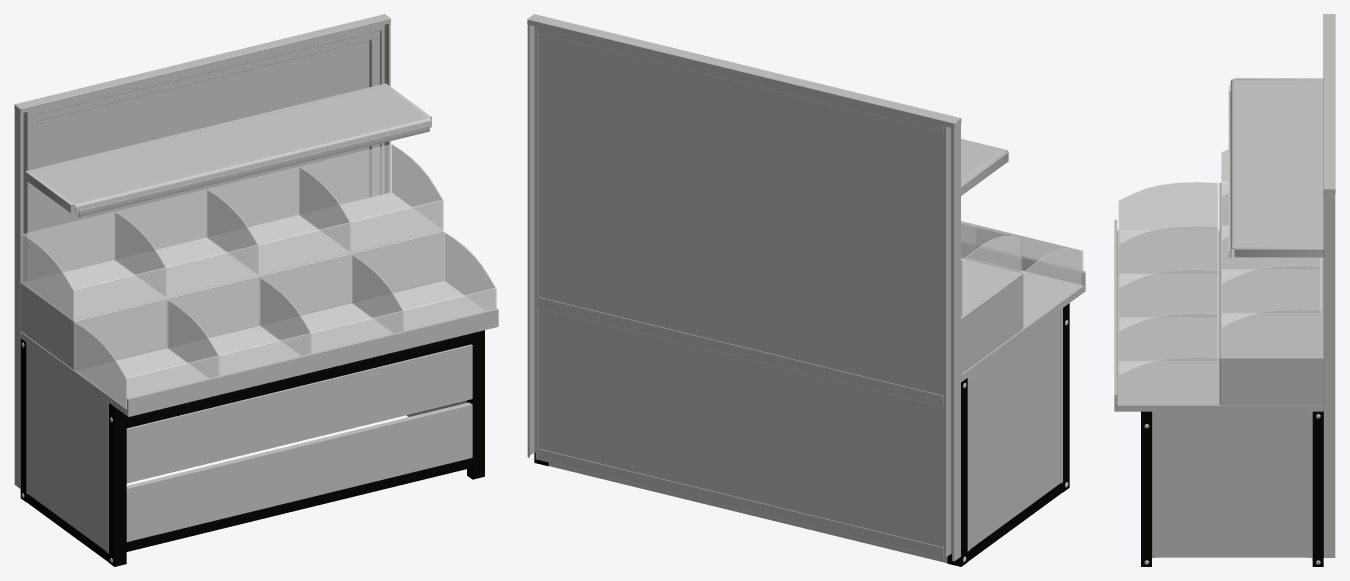
Rendered from SM_配餐区_米架_001.fbx.
3 views of the same model, side by side, from view 1: azimuth 30°, elevation 25°; view 2: azimuth 150°, elevation 25°; view 3: azimuth 270°, elevation 25° (orthographic). The views are drawn at different scales.
Visible parts, largest first — view 1: SM_配餐区_米架_001; view 2: SM_配餐区_米架_001; view 3: SM_配餐区_米架_001.
Part boxes in pixels (x1=…): SM_配餐区_米架_001: x1=14, y1=14, x2=498, y2=566; SM_配餐区_米架_001: x1=527, y1=14, x2=1085, y2=566; SM_配餐区_米架_001: x1=1114, y1=14, x2=1335, y2=566.
Size of the model in its own units: 1193 by 1193 by 633.
